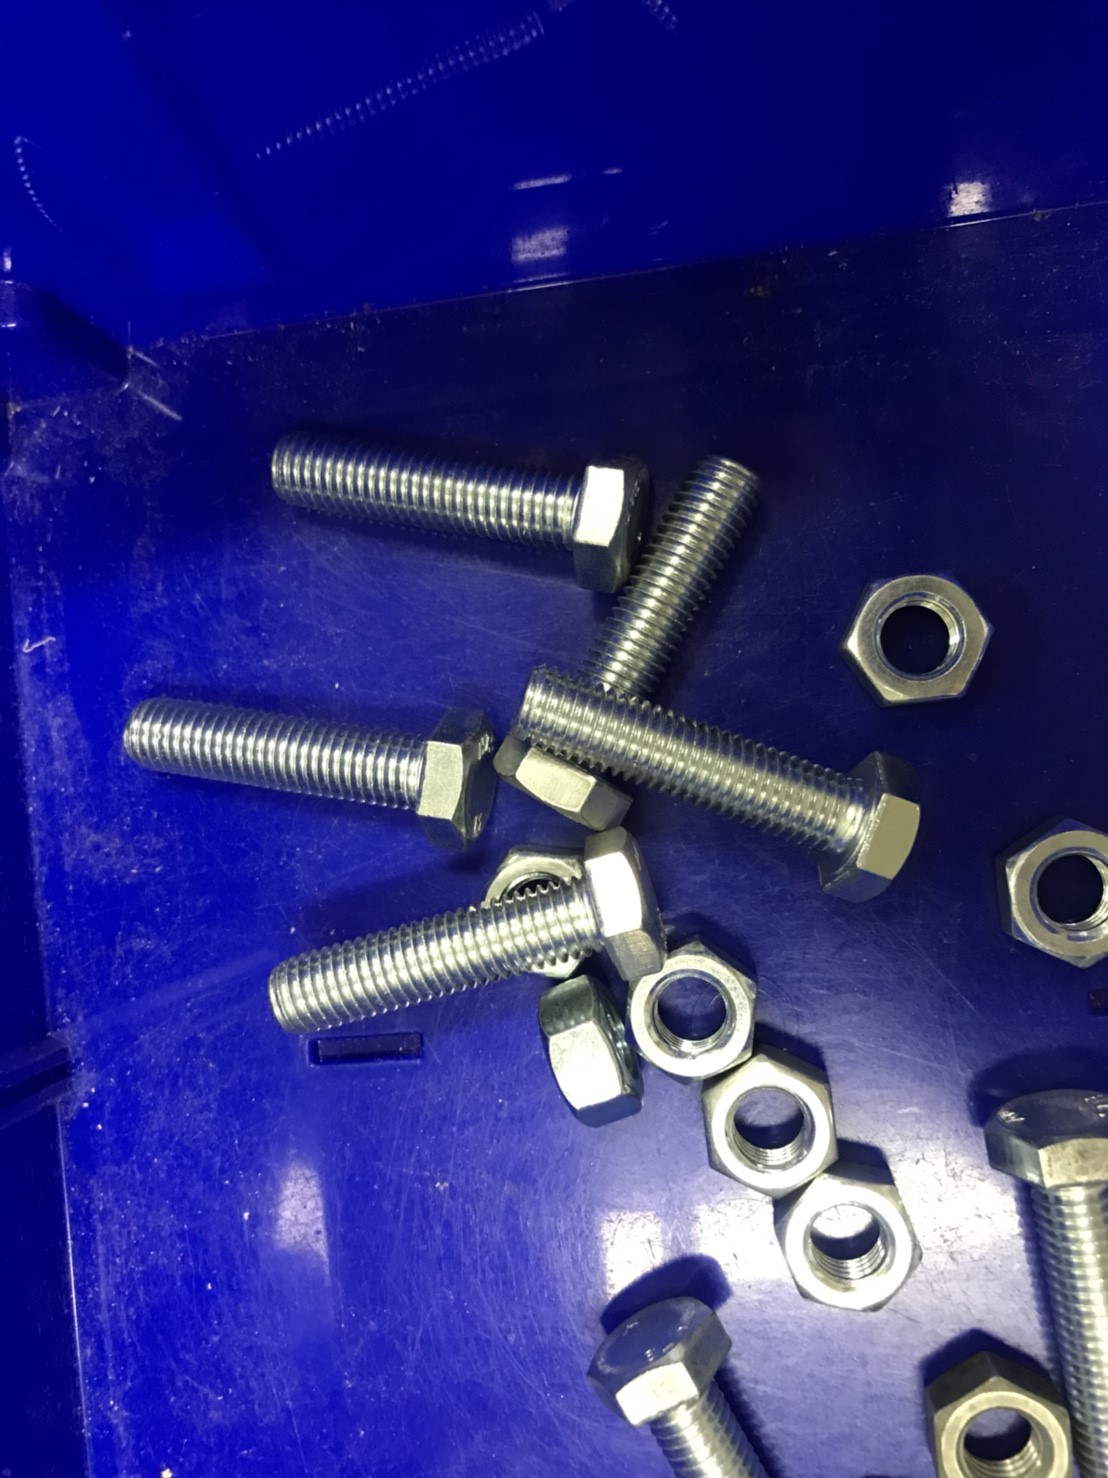nut: (699, 1046, 872, 1198), (838, 563, 996, 727), (521, 964, 670, 1130), (779, 1168, 930, 1321), (919, 1336, 1079, 1478), (628, 941, 781, 1087), (473, 846, 619, 992), (994, 813, 1108, 978)
screw: (496, 463, 794, 832), (513, 666, 944, 910), (246, 843, 668, 1064), (240, 385, 645, 602), (83, 691, 493, 853), (981, 1076, 1108, 1477)
